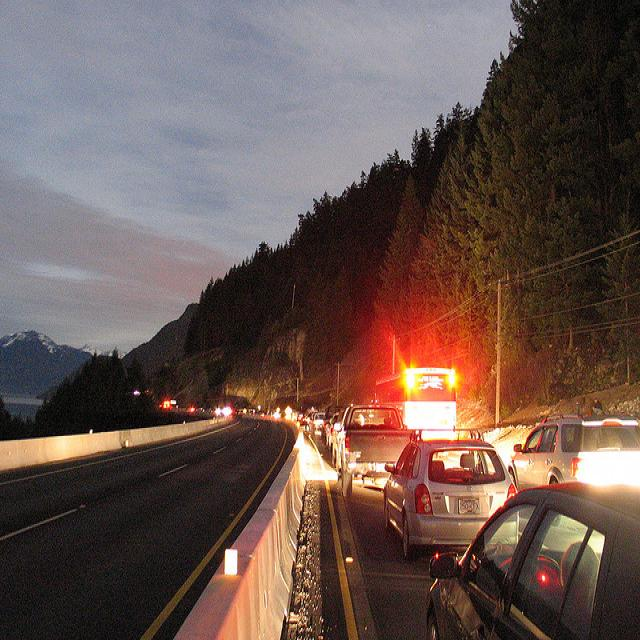Vehicle: (424, 477, 640, 630), (383, 446, 515, 556), (506, 416, 640, 494), (373, 358, 465, 437), (340, 408, 414, 498), (309, 412, 326, 437), (329, 414, 339, 447), (299, 408, 318, 425), (296, 412, 304, 422)
